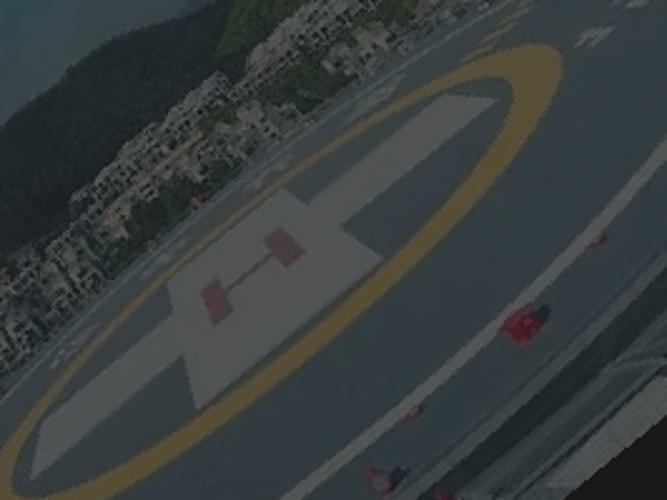Apron: (54, 90, 498, 381)
